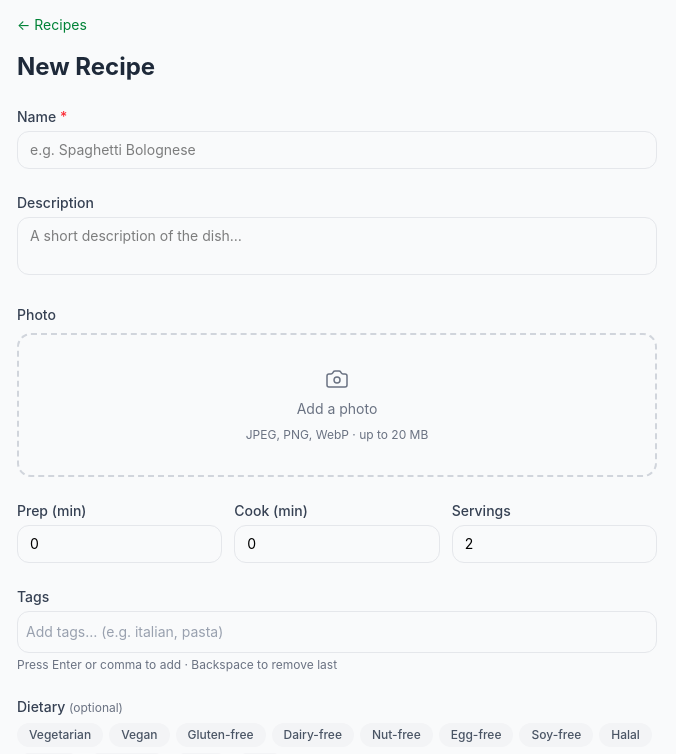
Test: RecipeFormPage › form validation › shows an error when no instruction step is filled on submit
Type "My Recipe" into the field with placeholder "e.g. Spaghetti Bolognese" at (337, 150), box [17,131,657,169]
(page scrolled)
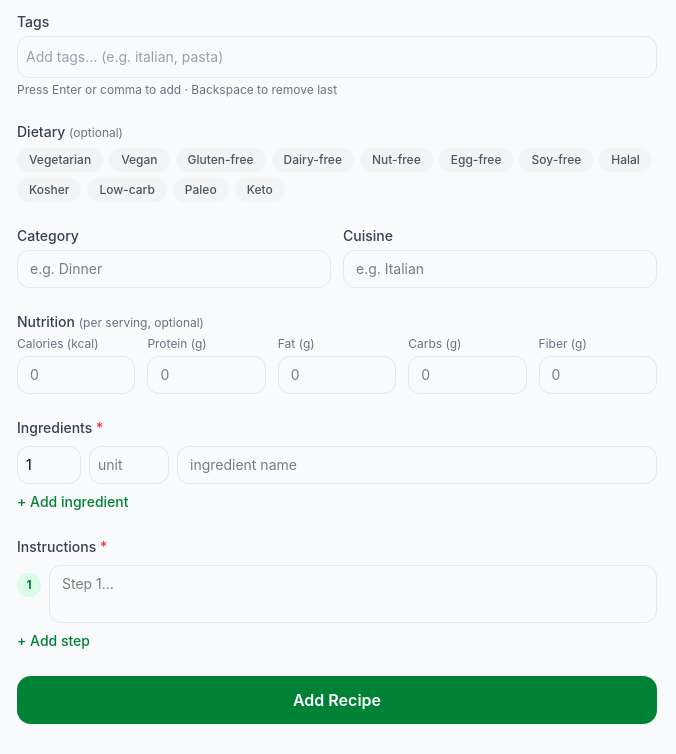
Type "flour" into the dropdown with placeholder "ingredient name" at (417, 465), box [177,446,657,484]
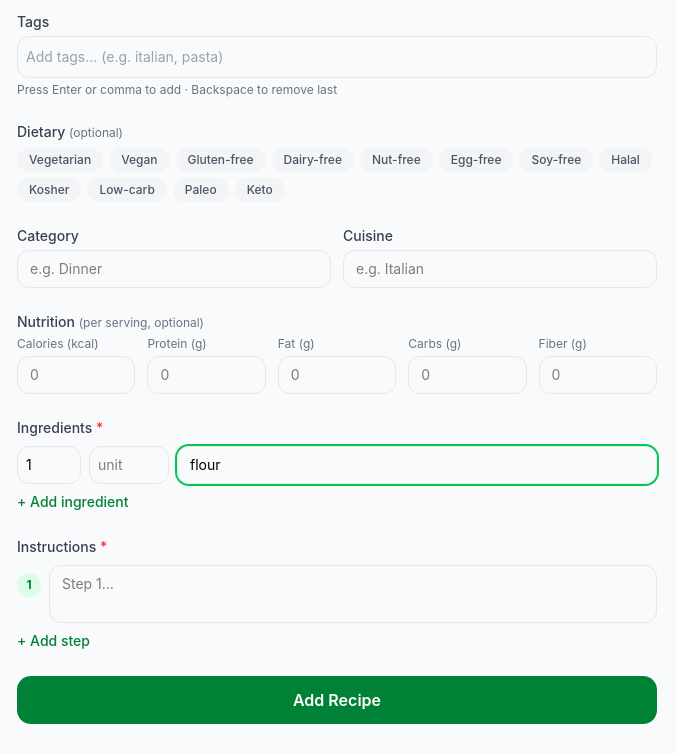
Click the button "Add Recipe" at (337, 700), box [17,676,657,724]
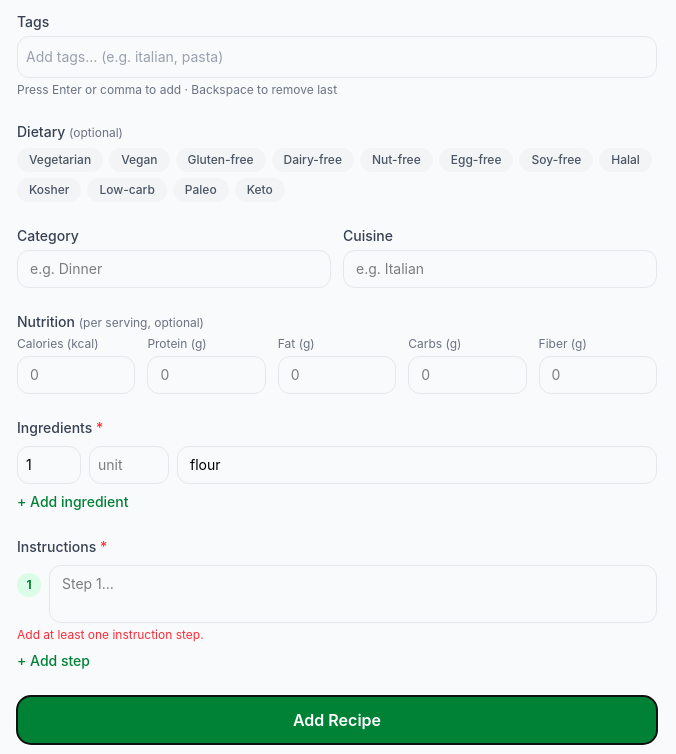
Check: the text "Add at least one instruction step." is shown, box [17,627,204,642]
